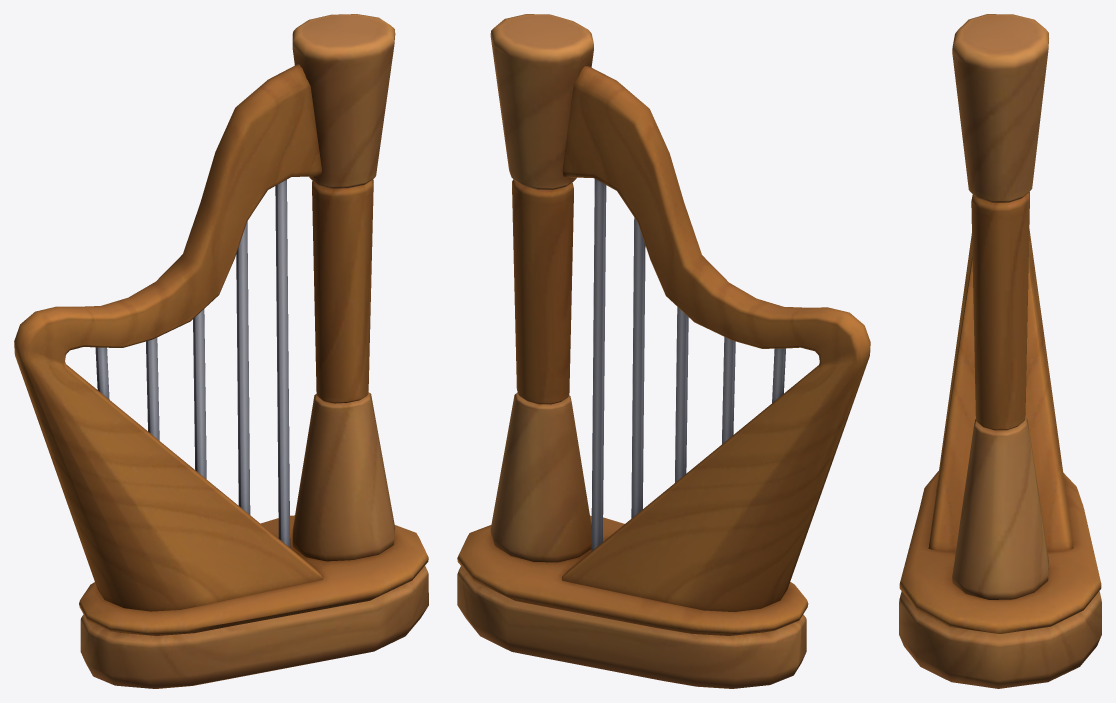
File: 0-harp_brown.fbx
3 views of the same model, side by side, from view 1: azimuth 30°, elevation 25°; view 2: azimuth 150°, elevation 25°; view 3: azimuth 270°, elevation 25° (orthographic). The views are drawn at different scales.
Visible parts, largest first — view 1: 0-harp_brown; view 2: 0-harp_brown; view 3: 0-harp_brown.
Boxes of the visible parts, x1=… form: 0-harp_brown: x1=14, y1=14, x2=428, y2=688; 0-harp_brown: x1=457, y1=14, x2=870, y2=688; 0-harp_brown: x1=899, y1=14, x2=1101, y2=688.
Bounding box in the file's own units: 69.45 × 97.13 × 28.55.
